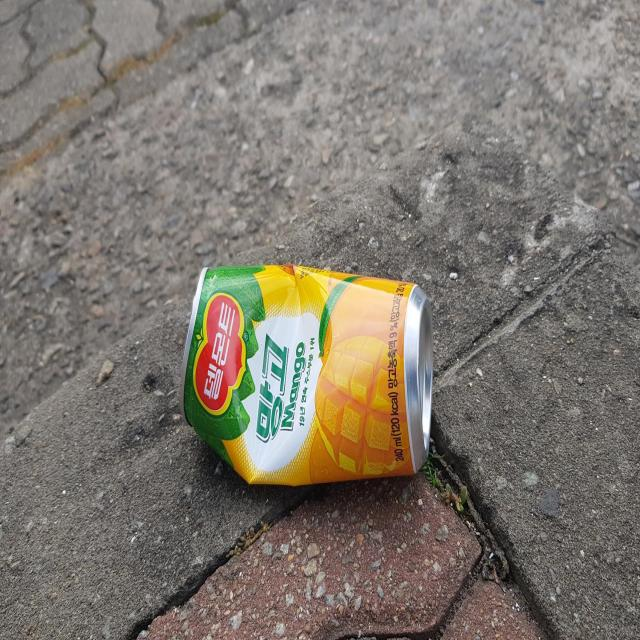can: (180, 264, 434, 485)
